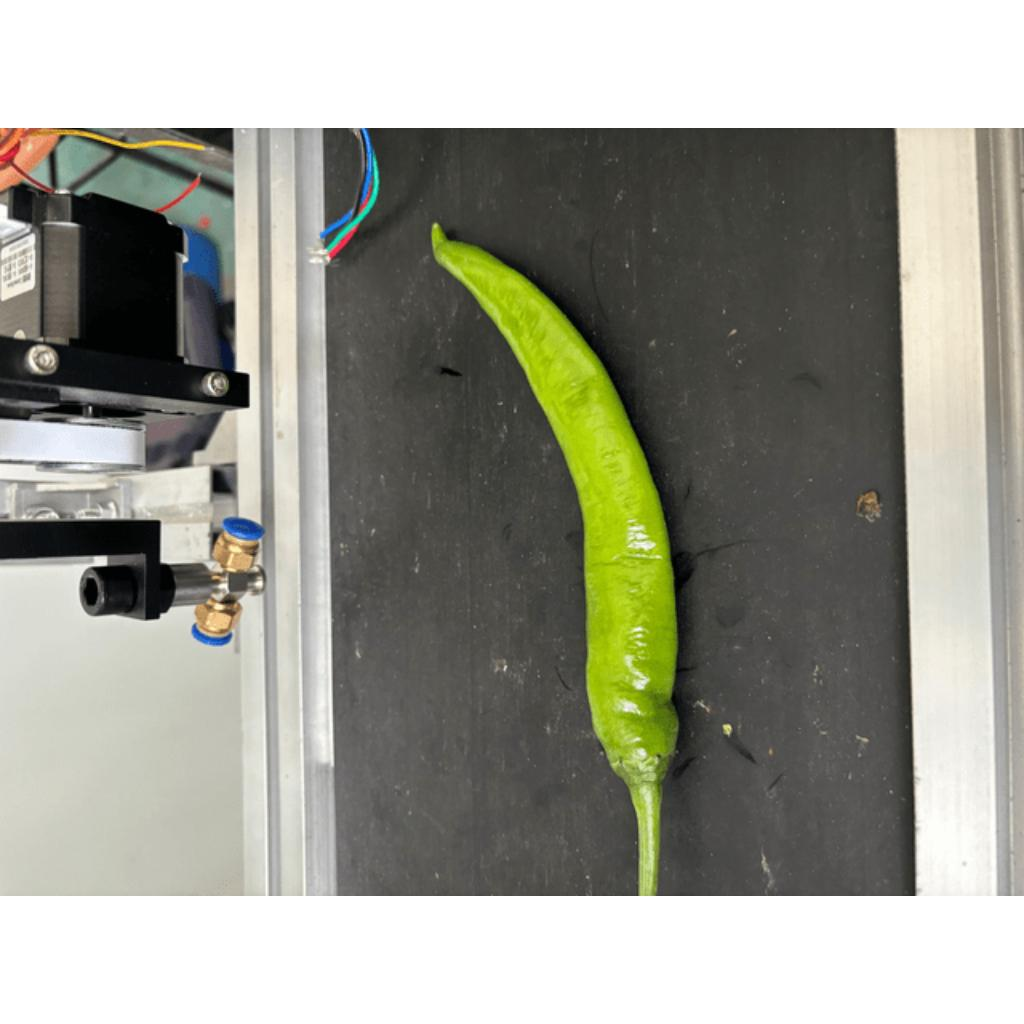chili: (430, 218, 682, 793)
